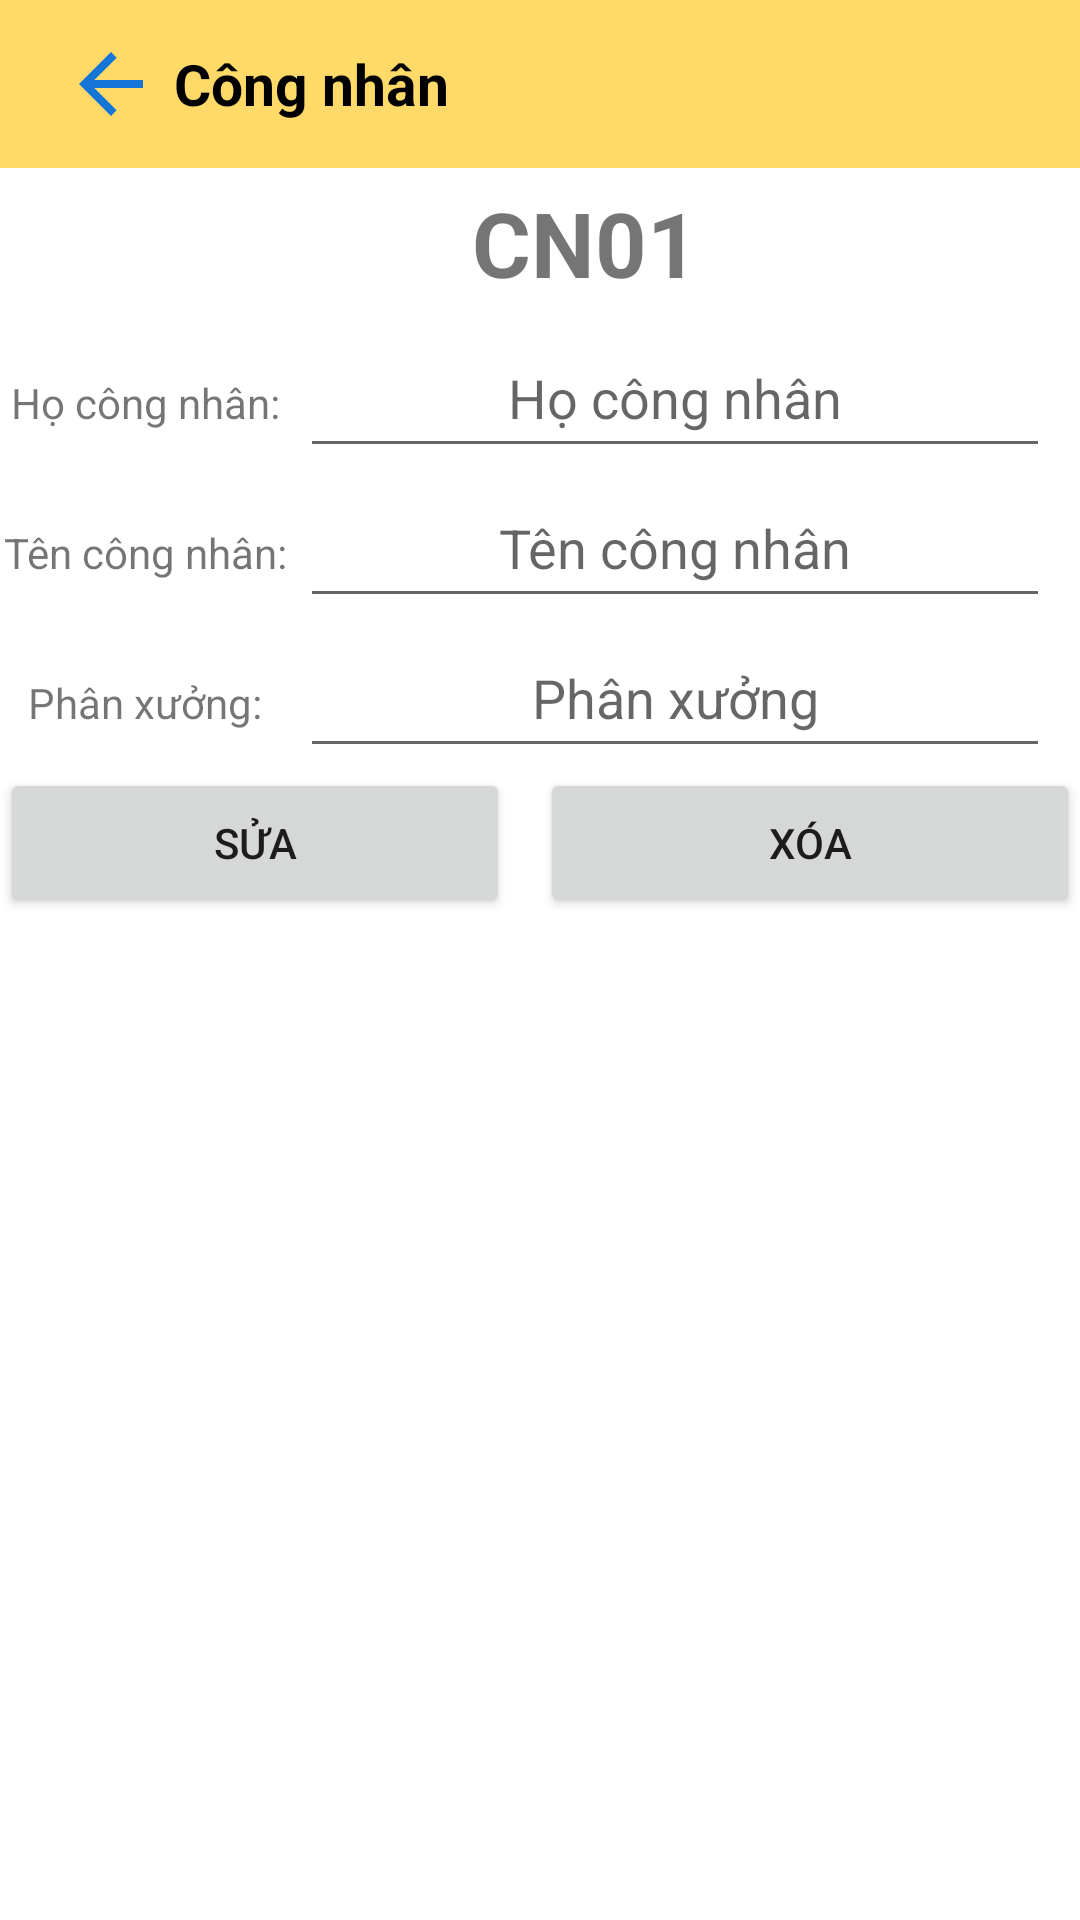

Icons on this 1080 × 1920 Android screen, each with its box as (x1, y1, x2, y2):
back: (79, 52, 143, 116)
